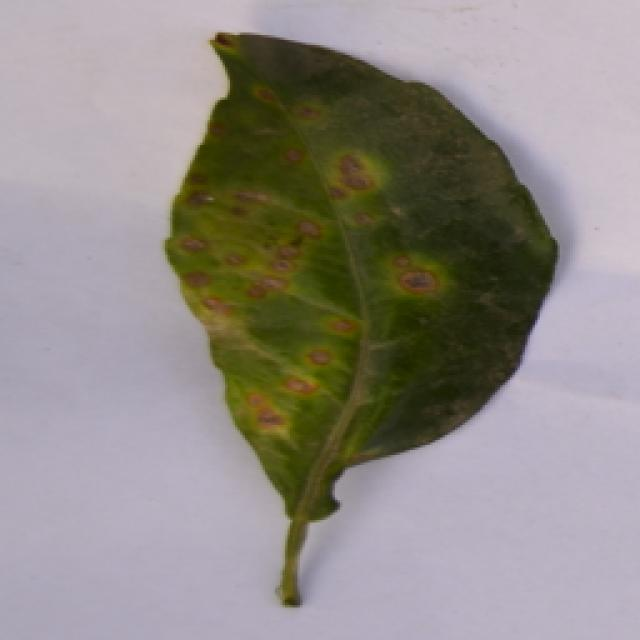canker: (162, 26, 564, 594)
